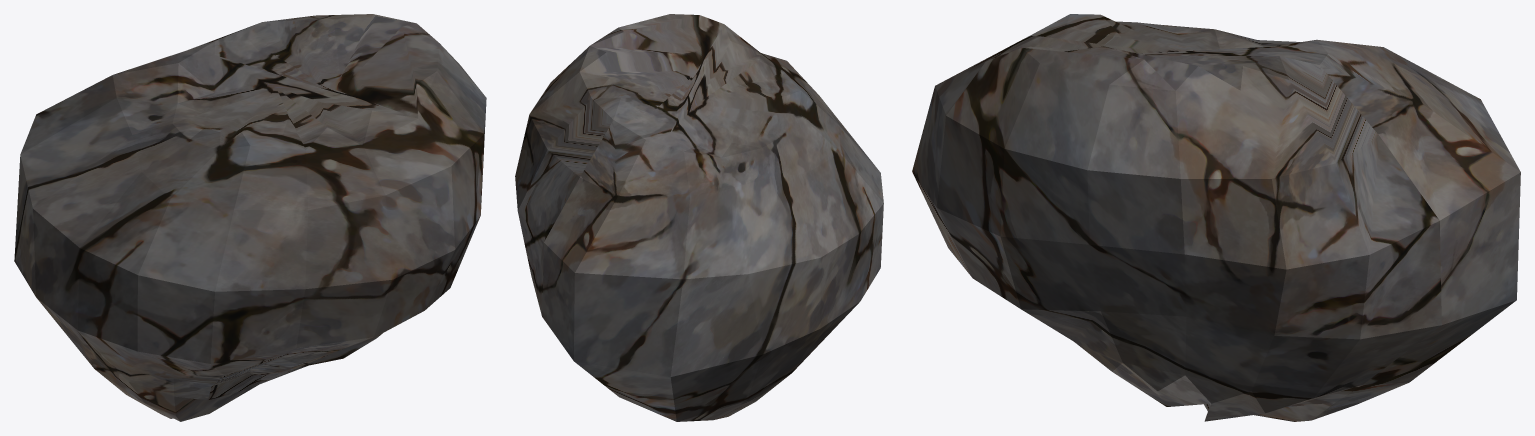
File: rock_m3.fbx
3 views of the same model, side by side, from view 1: azimuth 30°, elevation 25°; view 2: azimuth 150°, elevation 25°; view 3: azimuth 270°, elevation 25° (orthographic). The views are drawn at different scales.
Visible parts, largest first — view 1: Rock3; view 2: Rock3; view 3: Rock3.
Part boxes in pixels (x1,y1,x2,y2): Rock3: (14,14,486,421); Rock3: (515,14,883,421); Rock3: (912,14,1520,421).
Bounding box in the file's own units: 1.83 × 1.77 × 2.21.
